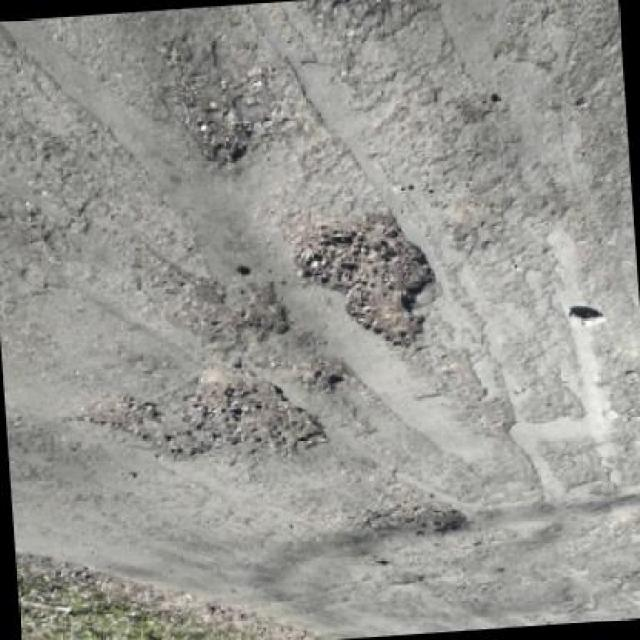pothole: (285, 204, 447, 358), (181, 365, 334, 472), (159, 38, 256, 170), (73, 388, 212, 470), (170, 268, 292, 344), (384, 483, 473, 542), (286, 359, 349, 396)
